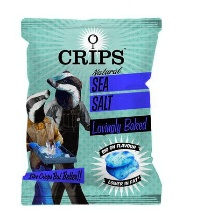snack: (12, 12, 169, 211)
